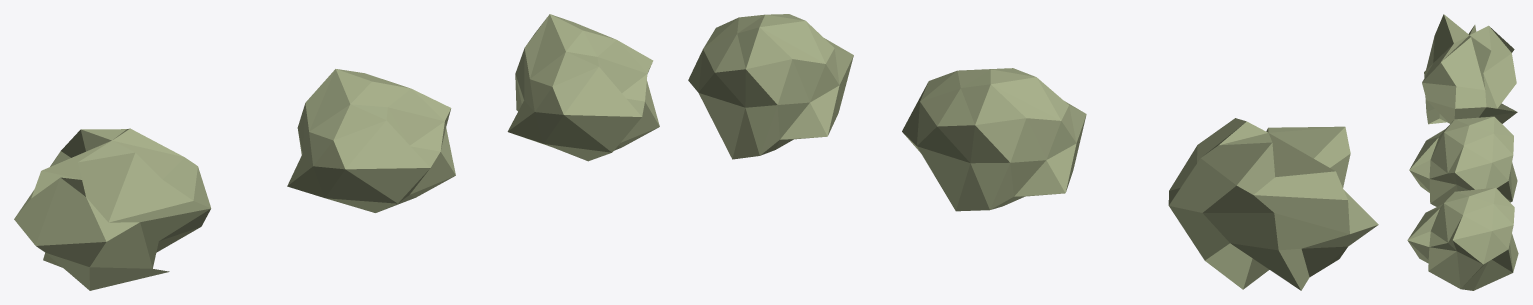
File: bushes_group_v1.fbx
3 renders of one model, left to right at view 1: azimuth 30°, elevation 25°; view 2: azimuth 150°, elevation 25°; view 3: azimuth 270°, elevation 25°, orthographic. The views are drawn at different scales.
Visible parts, largest first — view 1: light green bushes v1, light green bushes v2, light green bushes v3; view 2: light green bushes v1, light green bushes v2, light green bushes v3; view 3: light green bushes v3, light green bushes v1, light green bushes v2.
Part boxes in pixels (box(x1,y1,x2,y2)): light green bushes v1: box(14, 128, 211, 290); light green bushes v2: box(287, 69, 455, 212); light green bushes v3: box(507, 14, 659, 161); light green bushes v1: box(1168, 118, 1378, 290); light green bushes v2: box(902, 68, 1086, 211); light green bushes v3: box(688, 14, 853, 159); light green bushes v3: box(1407, 187, 1518, 290); light green bushes v1: box(1422, 14, 1517, 124); light green bushes v2: box(1409, 116, 1517, 206).
Bounding box in the file's own units: 668 × 142 × 150.
1 material, 1 textured.
